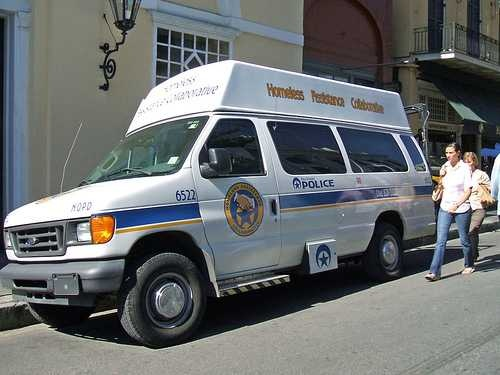Police Van: (18, 59, 446, 341)
